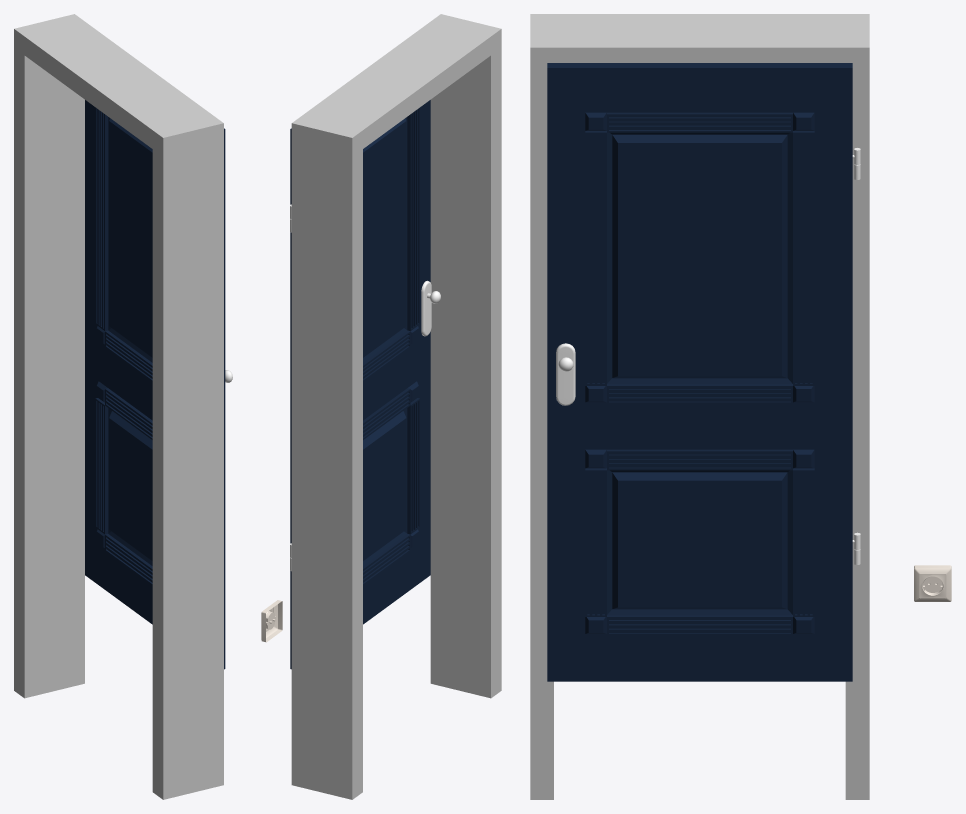
File: maze door.fbx
3 views of the same model, side by side, from view 1: azimuth 30°, elevation 25°; view 2: azimuth 150°, elevation 25°; view 3: azimuth 270°, elevation 25° (orthographic). The views are drawn at different scales.
Visible parts, largest first — view 1: door 2 frame, door 2; view 2: door 2 frame, door 2, power plug, door 2 handle; view 3: door 2, door 2 frame, power plug, door 2 handle.
Part boxes in pixels (x1,y1,x2,y2): door 2 frame: [14, 14, 223, 799]; door 2: [85, 100, 225, 669]; door 2 frame: [291, 14, 501, 799]; door 2: [290, 100, 430, 669]; power plug: [261, 600, 282, 642]; door 2 handle: [421, 280, 440, 336]; door 2: [547, 63, 860, 681]; door 2 frame: [530, 14, 869, 799]; power plug: [914, 565, 951, 601]; door 2 handle: [556, 343, 575, 405].
Size of the model in its own units: 32.61 by 245 by 124.
